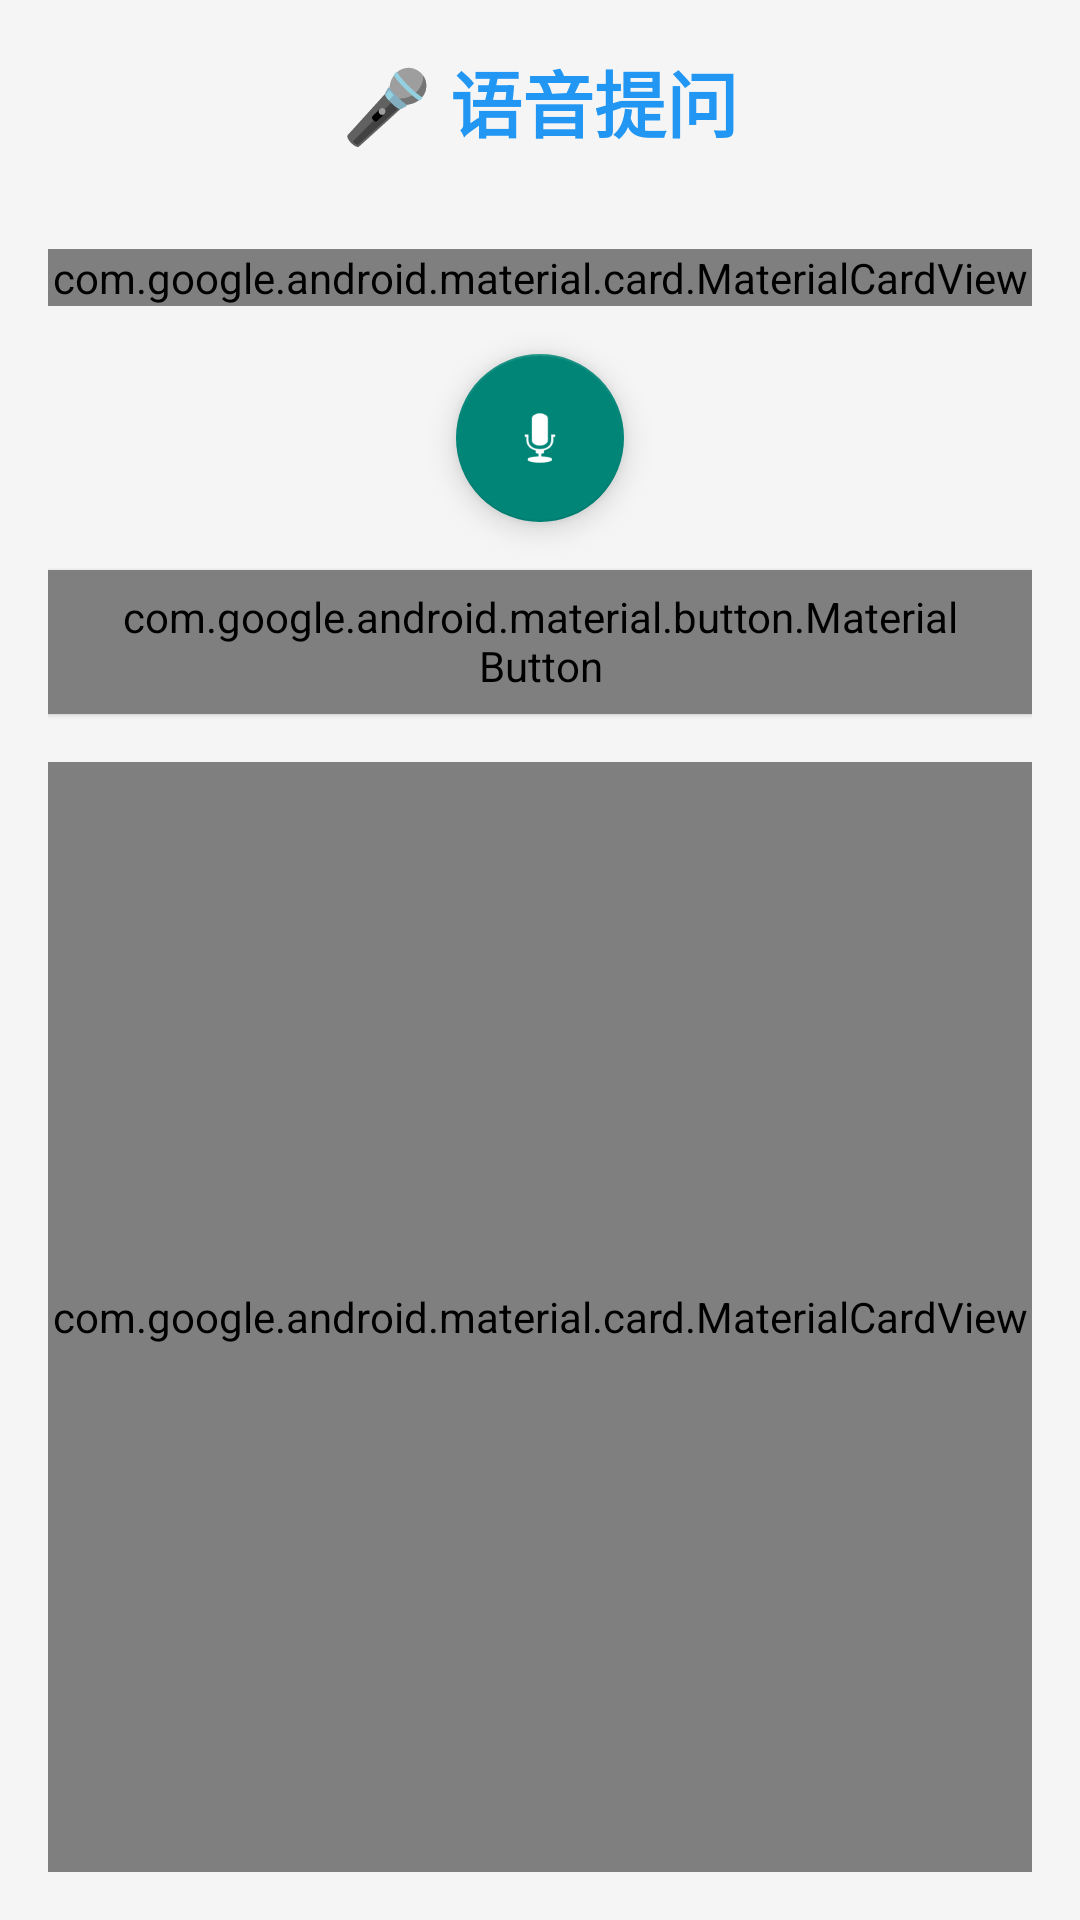

Named icons in this screenshot (1080 x 1920) and their centers, point (x, y):
speak now: point (540, 438)
